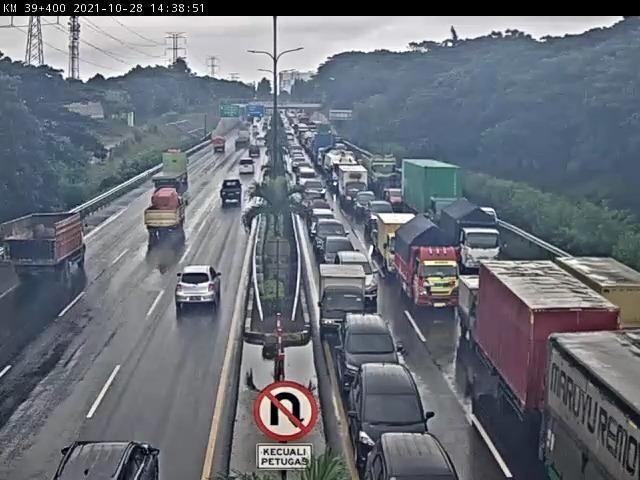bus: (256, 135, 270, 149)
car: (350, 366, 437, 465), (336, 315, 400, 399), (365, 434, 462, 480), (337, 253, 382, 303), (177, 264, 223, 307), (321, 237, 362, 278), (313, 220, 351, 259), (368, 200, 396, 232), (311, 208, 336, 238), (357, 193, 378, 218), (239, 161, 256, 178), (248, 145, 263, 161)
truck: (480, 260, 627, 447), (549, 253, 640, 363), (395, 217, 464, 314), (1, 215, 85, 285), (460, 275, 523, 352), (439, 198, 501, 273), (398, 159, 458, 228), (318, 262, 370, 338), (378, 213, 421, 278), (144, 191, 191, 240), (153, 149, 194, 190), (340, 166, 370, 208), (221, 181, 246, 206), (234, 129, 253, 150), (212, 137, 228, 154)
